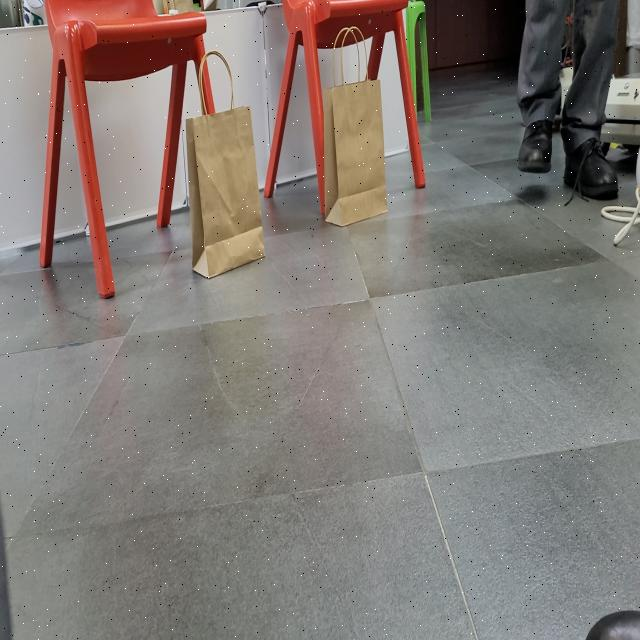paper bag: (187, 50, 268, 278), (322, 25, 387, 225)
